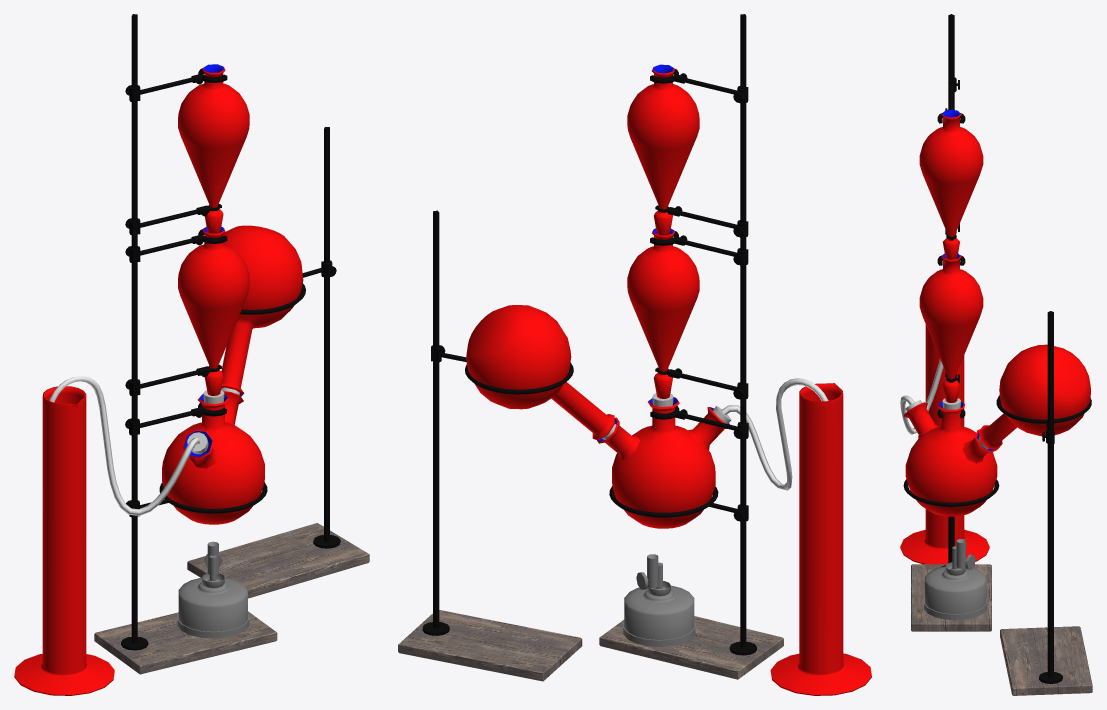
Rendered from LabSetup03.FBX.
3 views of the same model, side by side, from view 1: azimuth 30°, elevation 25°; view 2: azimuth 150°, elevation 25°; view 3: azimuth 270°, elevation 25° (orthographic). The views are drawn at different scales.
Parts seen in each view (by area): view 1: Cylinder061, Box016, Box017, VialRound03, Sphere022, Sphere020, Sphere021, Burner004, Line002, Cylinder051, Cylinder057, Cylinder059 (+4 smaller); view 2: Cylinder061, Box017, VialRound03, Sphere020, Box016, Sphere022, Sphere021, Burner004, Line002, Cylinder051, Cylinder055, Cylinder059 (+2 smaller); view 3: Box017, VialRound03, Sphere020, Sphere022, Sphere021, Cylinder061, Burner004, Box016, Cylinder055, Line002, Cylinder051, Cylinder059.
Part boxes in pixels (left/top/right/bottom): Cylinder061: left=14, top=386, right=114, bottom=695; Box016: left=94, top=14, right=277, bottom=674; Box017: left=187, top=127, right=369, bottom=598; VialRound03: left=162, top=387, right=264, bottom=524; Sphere022: left=178, top=64, right=249, bottom=233; Sphere020: left=221, top=225, right=303, bottom=396; Sphere021: left=178, top=226, right=249, bottom=395; Burner004: left=177, top=541, right=249, bottom=638; Line002: left=49, top=376, right=199, bottom=515; Cylinder051: left=126, top=482, right=267, bottom=517; Cylinder057: left=125, top=229, right=227, bottom=263; Cylinder059: left=125, top=68, right=227, bottom=102; Cylinder061: left=770, top=383, right=871, bottom=695; Box017: left=398, top=210, right=582, bottom=681; VialRound03: left=597, top=393, right=731, bottom=528; Sphere020: left=466, top=305, right=614, bottom=440; Box016: left=599, top=14, right=783, bottom=679; Sphere022: left=627, top=64, right=699, bottom=235; Sphere021: left=627, top=228, right=699, bottom=398; Burner004: left=623, top=554, right=695, bottom=646; Line002: left=721, top=378, right=828, bottom=490; Cylinder051: left=609, top=486, right=748, bottom=521; Cylinder055: left=431, top=345, right=573, bottom=394; Cylinder059: left=650, top=69, right=748, bottom=103; Box017: left=1000, top=311, right=1092, bottom=695; VialRound03: left=903, top=398, right=997, bottom=516; Sphere020: left=978, top=344, right=1090, bottom=449; Sphere022: left=919, top=109, right=983, bottom=259; Sphere021: left=919, top=253, right=983, bottom=402; Cylinder061: left=900, top=324, right=989, bottom=564; Burner004: left=924, top=539, right=987, bottom=620; Box016: left=911, top=14, right=991, bottom=631; Cylinder055: left=996, top=395, right=1091, bottom=444; Line002: left=900, top=359, right=943, bottom=434; Cylinder051: left=903, top=479, right=999, bottom=506; Cylinder059: left=937, top=77, right=965, bottom=123.
Size of the model in its own units: 19.99 by 9.73 by 31.5.
